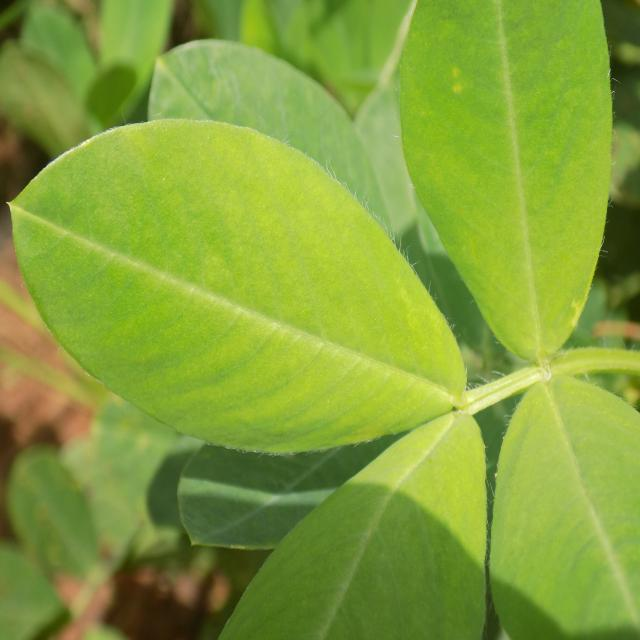Ground nut_healthy: (5, 123, 470, 453), (144, 42, 438, 373)
